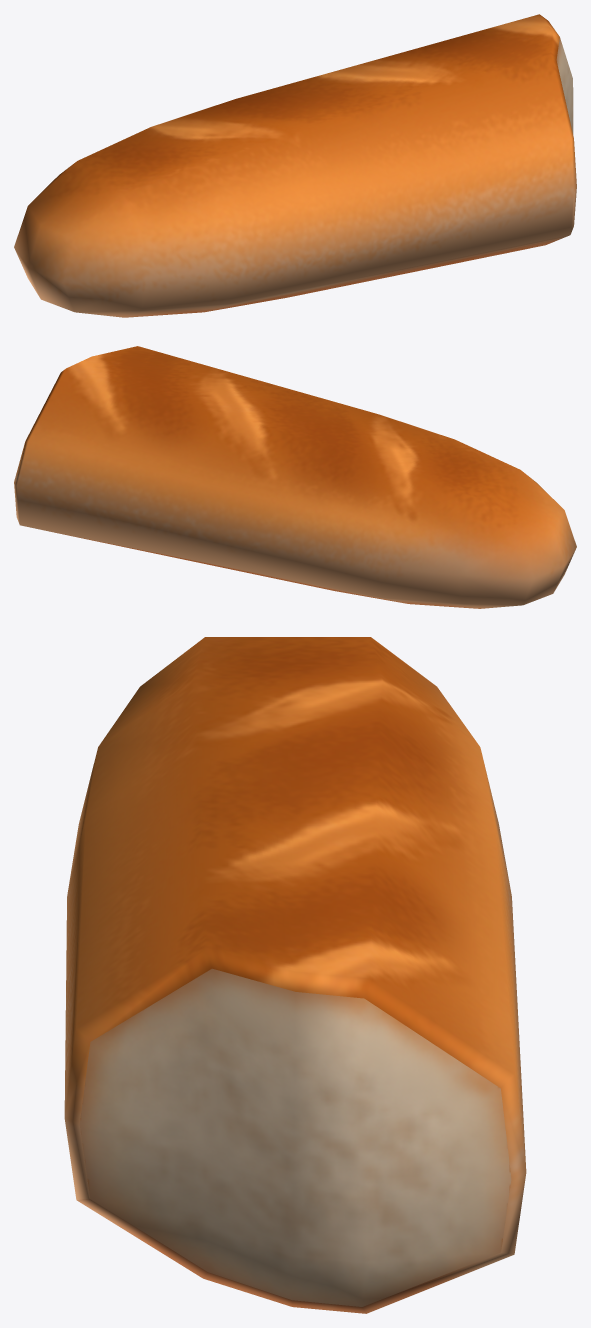
Rendered from French_Broken_0.fbx.
3 views of the same model, one above another, from view 1: azimuth 30°, elevation 25°; view 2: azimuth 150°, elevation 25°; view 3: azimuth 270°, elevation 25° (orthographic). The views are drawn at different scales.
Parts seen in each view (by area): view 1: French_Broken_0; view 2: French_Broken_0; view 3: French_Broken_0.
Part boxes in pixels (x1,y1,x2,y2): French_Broken_0: (14,14,576,317); French_Broken_0: (14,346,576,608); French_Broken_0: (64,637,526,1313).
Size of the model in its own units: 64.1 by 20.66 by 25.82.
